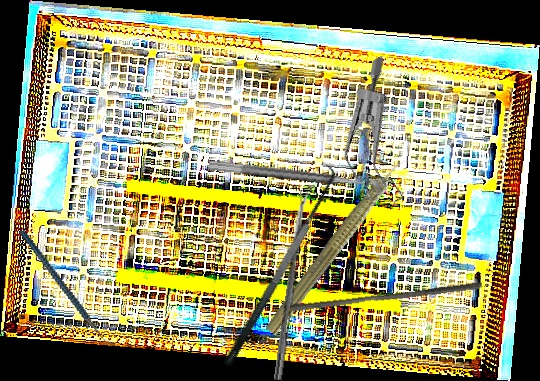Chopper: (19, 213, 119, 363)
Fixation Ring: (206, 159, 384, 206)
Handpiece: (261, 143, 420, 342)
Pusher: (291, 274, 483, 319)
Spatula Surgical: (206, 161, 347, 368)
Speculum: (308, 55, 448, 219)
Surgical Spoon: (273, 190, 310, 381)
